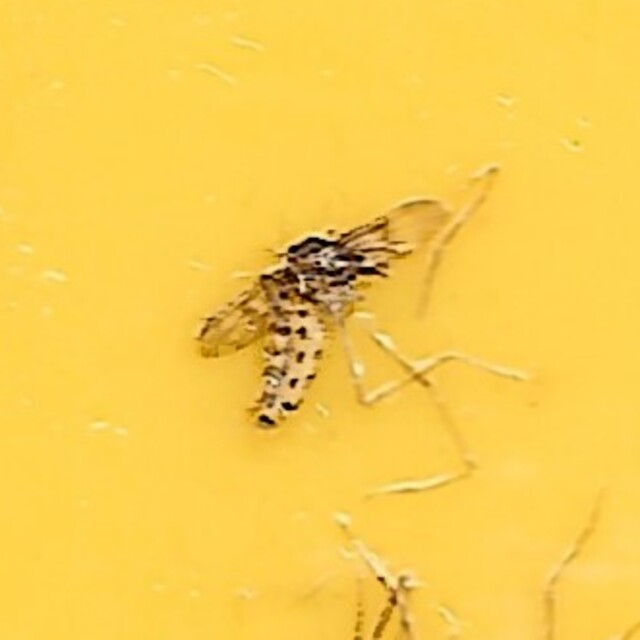Nematocera: (193, 196, 447, 444)
